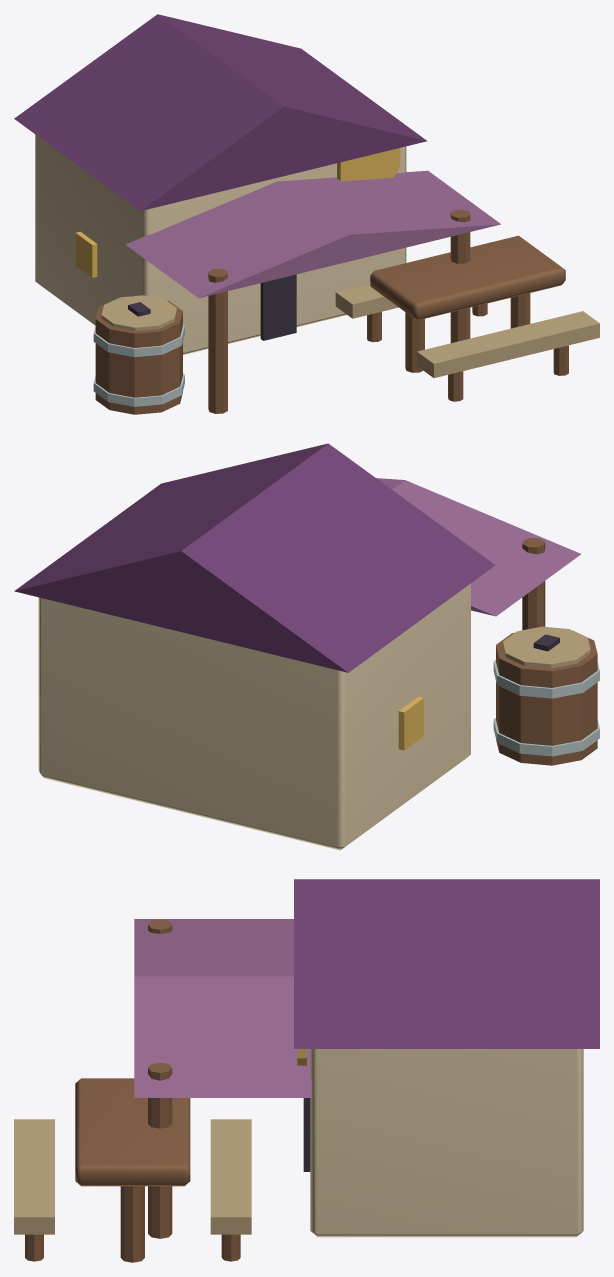
File: taproom.glb
3 views of the same model, one above another, from view 1: azimuth 30°, elevation 25°; view 2: azimuth 150°, elevation 25°; view 3: azimuth 270°, elevation 25° (orthographic). The views are drawn at different scales.
Visible parts, largest first — view 1: gable.003, gable.004, Cube.021, Cube.025, Cone.097, Cube.026, Cone.095, Cube.022, Cone.100, Cone.107, Cone.096, Cube.027 (+5 smaller); view 2: Cube.021, gable.003, gable.004, Cone.097, Cone.100, Cone.095, Cone.098, Cone.099, Cube.023; view 3: gable.003, Cube.021, gable.004, Cube.025, Cube.027, Cube.026, Cone.096, Cone.106, Cube.022, Cone.104, Cone.102.
Part boxes in pixels (x1,y1,x2,y2): gable.003: (14,14,427,210); gable.004: (125,170,500,298); Cube.021: (35,134,406,354); Cube.025: (370,235,565,320); Cone.097: (95,300,182,414); Cube.026: (417,311,599,377); Cone.095: (208,268,227,413); Cube.022: (260,274,296,340); Cone.100: (101,295,176,331); Cone.107: (337,148,400,181); Cone.096: (450,209,470,343); Cube.027: (335,284,398,318); Cube.021: (38,583,470,850); gable.003: (14,443,495,672); gable.004: (376,478,580,616); Cone.097: (496,630,597,765); Cone.100: (503,626,590,668); Cone.095: (522,538,545,630); Cone.098: (493,718,599,756); Cone.099: (493,660,599,698); Cube.023: (398,696,423,750); gable.003: (294,879,599,1048); Cube.021: (310,1049,583,1237); gable.004: (134,919,311,1097); Cube.025: (75,1078,190,1186); Cube.027: (210,1119,251,1234); Cube.026: (14,1119,54,1234); Cone.096: (148,1062,172,1238); Cone.106: (120,1186,144,1262); Cube.022: (303,1098,310,1171); Cone.104: (221,1234,240,1261); Cone.102: (25,1234,43,1261).
Bounding box in the file's own units: 2.07 × 1.14 × 2.15.
